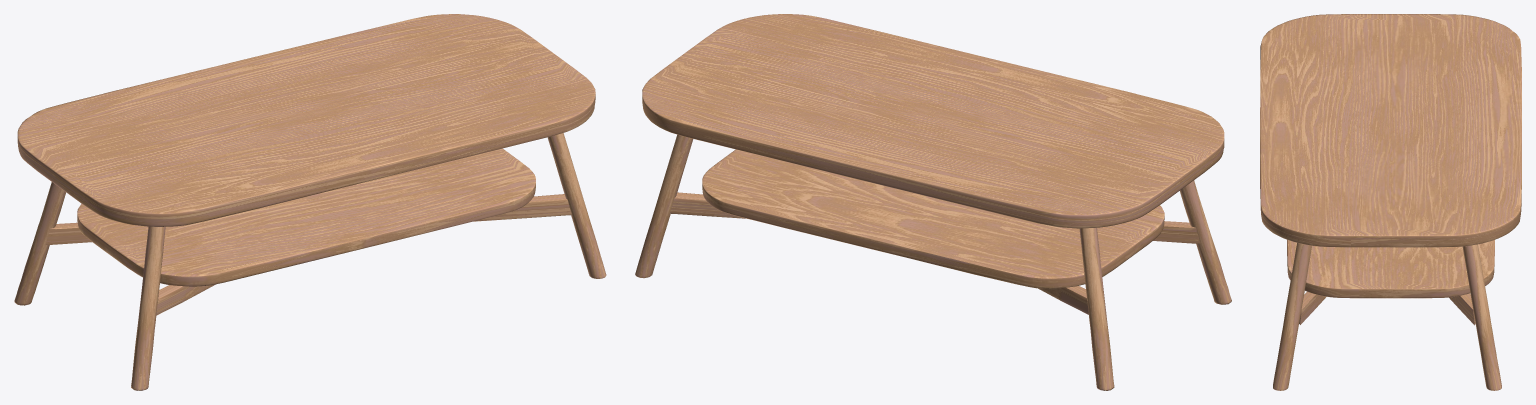
Rendered from furniture_1.glb.
3 views of the same model, side by side, from view 1: azimuth 30°, elevation 25°; view 2: azimuth 150°, elevation 25°; view 3: azimuth 270°, elevation 25° (orthographic). The views are drawn at different scales.
Parts seen in each view (by area): view 1: GF_Cube.002, GF_Cube.001, GF_Cylinder.003, GF_Cylinder.004; view 2: GF_Cube.002, GF_Cube.001, GF_Cylinder.003, GF_Cylinder.004; view 3: GF_Cube.002, GF_Cube.001, GF_Cylinder.003, GF_Cylinder.004.
Part boxes in pixels (x1,y1,x2,y2): GF_Cube.002: [17, 14, 595, 226]; GF_Cube.001: [77, 148, 535, 286]; GF_Cylinder.003: [14, 133, 606, 390]; GF_Cylinder.004: [45, 194, 571, 315]; GF_Cube.002: [642, 14, 1224, 228]; GF_Cube.001: [702, 149, 1164, 288]; GF_Cylinder.003: [635, 134, 1231, 390]; GF_Cylinder.004: [670, 192, 1200, 314]; GF_Cube.002: [1260, 14, 1521, 247]; GF_Cube.001: [1287, 240, 1494, 298]; GF_Cylinder.003: [1273, 243, 1501, 390]; GF_Cylinder.004: [1300, 292, 1474, 325].
Size of the model in its own units: 1.2 by 0.4023 by 0.5986.
Materials: 1 (1 with a texture image).
